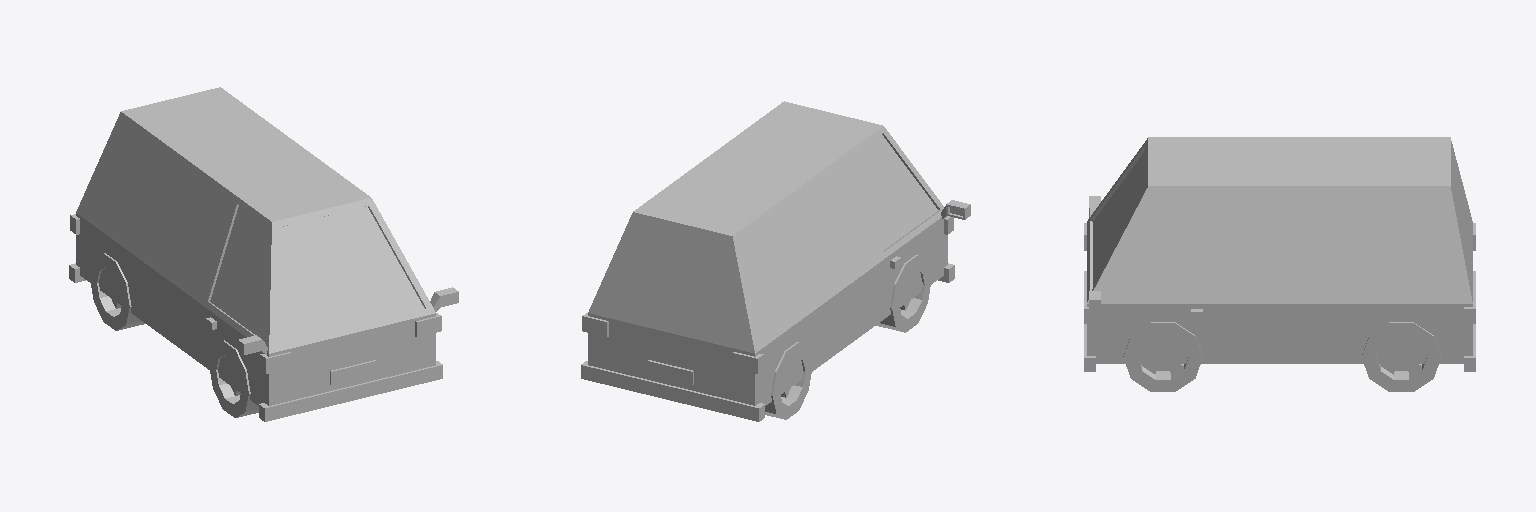
File: Coche5.obj
The picture shows the model from 3 angles: view 1: azimuth 30°, elevation 25°; view 2: azimuth 150°, elevation 25°; view 3: azimuth 270°, elevation 25°; orthographic projection.
Visible parts, largest first — view 1: Cube.005; view 2: Cube.005; view 3: Cube.005.
Boxes of the visible parts, <box> form: Cube.005: <box>69,87,458,421</box>; Cube.005: <box>581,101,970,421</box>; Cube.005: <box>1084,137,1475,391</box>.
Size of the model in its own units: 2.57 by 2.16 by 4.06.